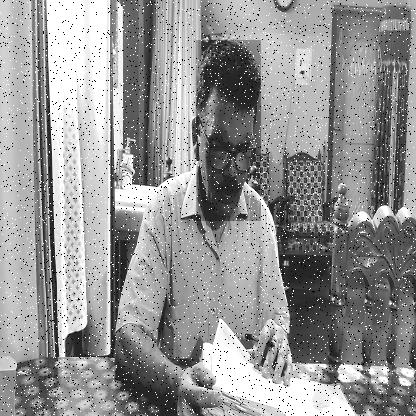Normal: (196, 40, 261, 221)
